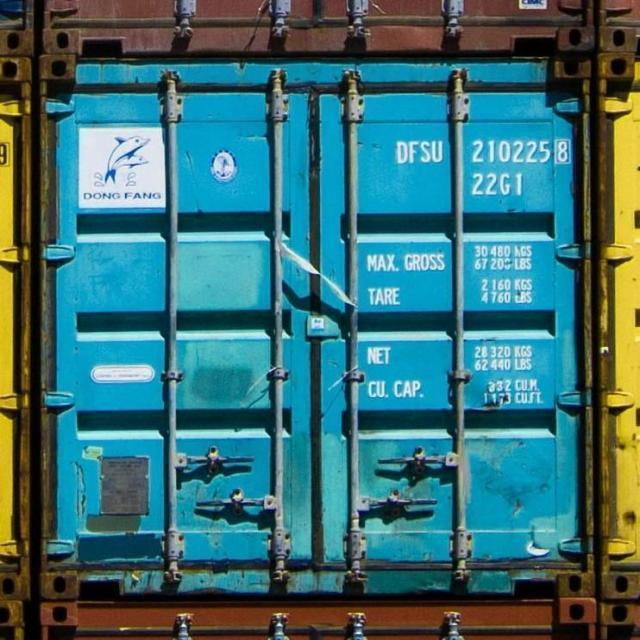ISO: (473, 171, 524, 197)
container_number: (394, 140, 572, 164)
